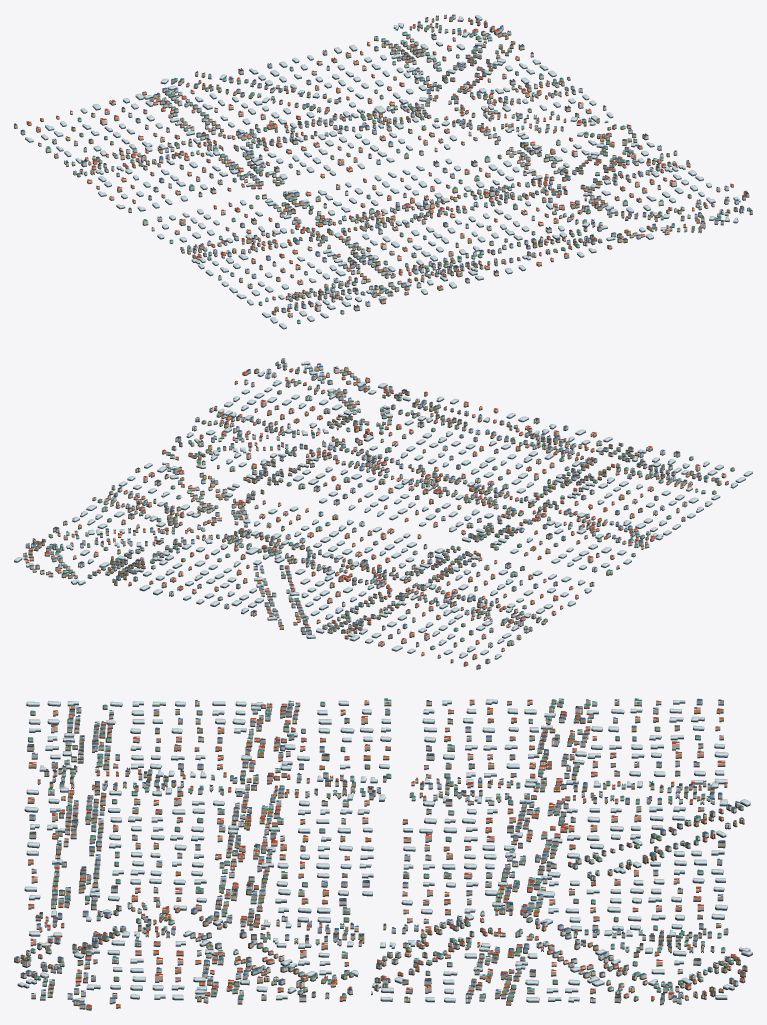
The model's file is osm_buildings_T_E03_S01.glb.
3 renders of one model, top to bottom at view 1: azimuth 30°, elevation 25°; view 2: azimuth 150°, elevation 25°; view 3: azimuth 270°, elevation 25°, orthographic. The views are drawn at different scales.
Parts seen in each view (by area): view 1: OSM_T_E03_S01_foundation, OSM_T_E03_S01_greenhouse_blend, OSM_T_E03_S01_wall_cream_stucco, OSM_T_E03_S01_wall_french_ochre, OSM_T_E03_S01_wall_warm_white, OSM_T_E03_S01_wall_pastel_sand, OSM_T_E03_S01_roof_terracotta, OSM_T_E03_S01_roof_mansard_slate, OSM_T_E03_S01_roof_alpine_blue, OSM_T_E03_S01_roof_mint_metal; view 2: OSM_T_E03_S01_foundation, OSM_T_E03_S01_greenhouse_blend, OSM_T_E03_S01_wall_cream_stucco, OSM_T_E03_S01_wall_french_ochre, OSM_T_E03_S01_wall_warm_white, OSM_T_E03_S01_wall_pastel_sand, OSM_T_E03_S01_roof_terracotta, OSM_T_E03_S01_roof_mansard_slate, OSM_T_E03_S01_roof_alpine_blue, OSM_T_E03_S01_roof_mint_metal; view 3: OSM_T_E03_S01_foundation, OSM_T_E03_S01_greenhouse_blend, OSM_T_E03_S01_wall_cream_stucco, OSM_T_E03_S01_wall_french_ochre, OSM_T_E03_S01_wall_warm_white, OSM_T_E03_S01_wall_pastel_sand, OSM_T_E03_S01_roof_terracotta, OSM_T_E03_S01_roof_mansard_slate, OSM_T_E03_S01_roof_alpine_blue, OSM_T_E03_S01_roof_mint_metal, OSM_T_E03_S01_glass_blend_85.
Boxes of the visible parts, x1,y1,x2,y2 form: OSM_T_E03_S01_foundation: (14, 17, 752, 329); OSM_T_E03_S01_greenhouse_blend: (25, 15, 740, 328); OSM_T_E03_S01_wall_cream_stucco: (45, 16, 744, 323); OSM_T_E03_S01_wall_french_ochre: (26, 18, 752, 311); OSM_T_E03_S01_wall_warm_white: (38, 15, 750, 310); OSM_T_E03_S01_wall_pastel_sand: (14, 18, 749, 312); OSM_T_E03_S01_roof_terracotta: (27, 14, 747, 314); OSM_T_E03_S01_roof_mansard_slate: (14, 15, 752, 307); OSM_T_E03_S01_roof_alpine_blue: (21, 14, 745, 309); OSM_T_E03_S01_roof_mint_metal: (46, 24, 750, 321); OSM_T_E03_S01_foundation: (14, 362, 752, 669); OSM_T_E03_S01_greenhouse_blend: (14, 361, 752, 658); OSM_T_E03_S01_wall_cream_stucco: (23, 364, 734, 657); OSM_T_E03_S01_wall_french_ochre: (28, 359, 721, 665); OSM_T_E03_S01_wall_warm_white: (29, 362, 707, 650); OSM_T_E03_S01_wall_pastel_sand: (23, 369, 719, 668); OSM_T_E03_S01_roof_terracotta: (23, 368, 728, 663); OSM_T_E03_S01_roof_mansard_slate: (24, 358, 701, 666); OSM_T_E03_S01_roof_alpine_blue: (26, 362, 720, 660); OSM_T_E03_S01_roof_mint_metal: (36, 361, 734, 647); OSM_T_E03_S01_foundation: (14, 701, 752, 1010); OSM_T_E03_S01_greenhouse_blend: (17, 699, 752, 1001); OSM_T_E03_S01_wall_cream_stucco: (25, 699, 747, 1002); OSM_T_E03_S01_wall_french_ochre: (14, 700, 744, 1009); OSM_T_E03_S01_wall_warm_white: (20, 701, 745, 1002); OSM_T_E03_S01_wall_pastel_sand: (28, 700, 743, 1008); OSM_T_E03_S01_roof_terracotta: (20, 699, 744, 1006); OSM_T_E03_S01_roof_mansard_slate: (21, 699, 746, 1004); OSM_T_E03_S01_roof_alpine_blue: (14, 698, 740, 1001); OSM_T_E03_S01_roof_mint_metal: (26, 698, 743, 998); OSM_T_E03_S01_glass_blend_85: (14, 701, 738, 1008).
Bounding box in the file's own units: 1945 × 41.99 × 1988.
